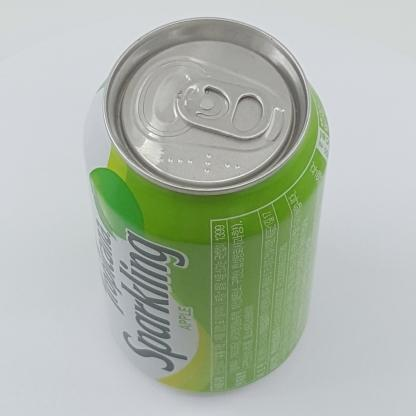-------------355ML: (82, 17, 330, 392)
